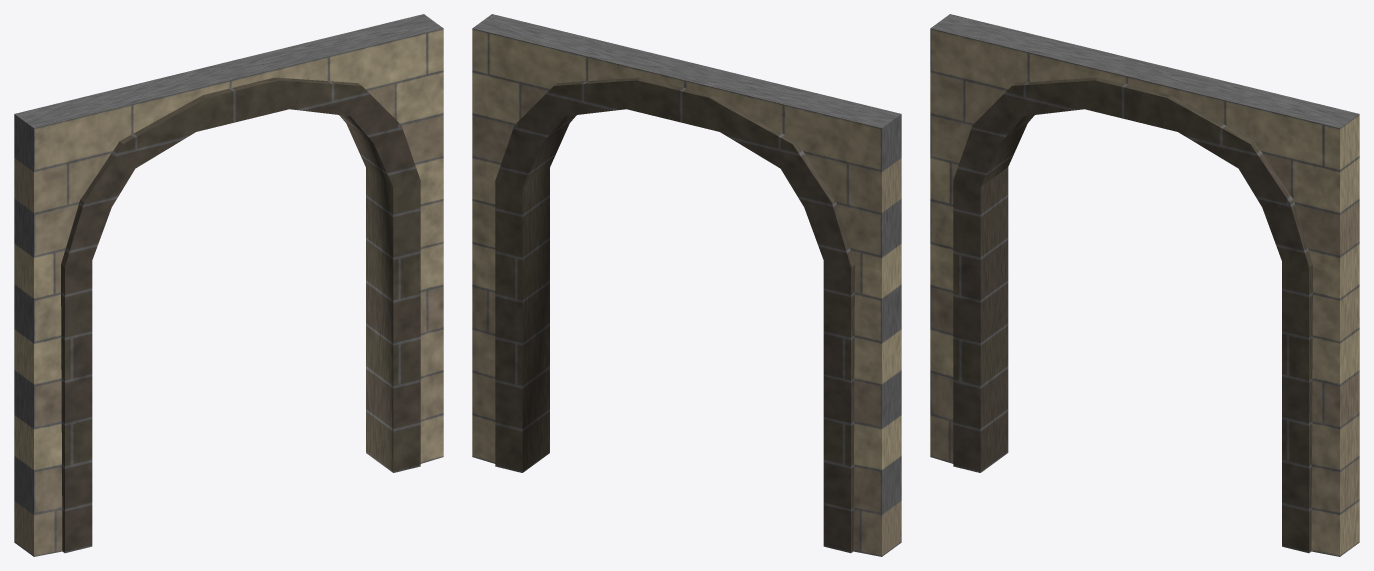
The model's file is BrickArchway.fbx.
3 renders of one model, left to right at view 1: azimuth 30°, elevation 25°; view 2: azimuth 150°, elevation 25°; view 3: azimuth 330°, elevation 25°, orthographic.
Visible parts, largest first — view 1: BrickArchway_Baked; view 2: BrickArchway_Baked; view 3: BrickArchway_Baked.
Part boxes in pixels (x1,y1,x2,y2): BrickArchway_Baked: [14, 14, 443, 556]; BrickArchway_Baked: [472, 14, 901, 556]; BrickArchway_Baked: [930, 14, 1359, 556].
Size of the model in its own units: 300 by 300 by 35.
Materials: 1 (1 with a texture image).
